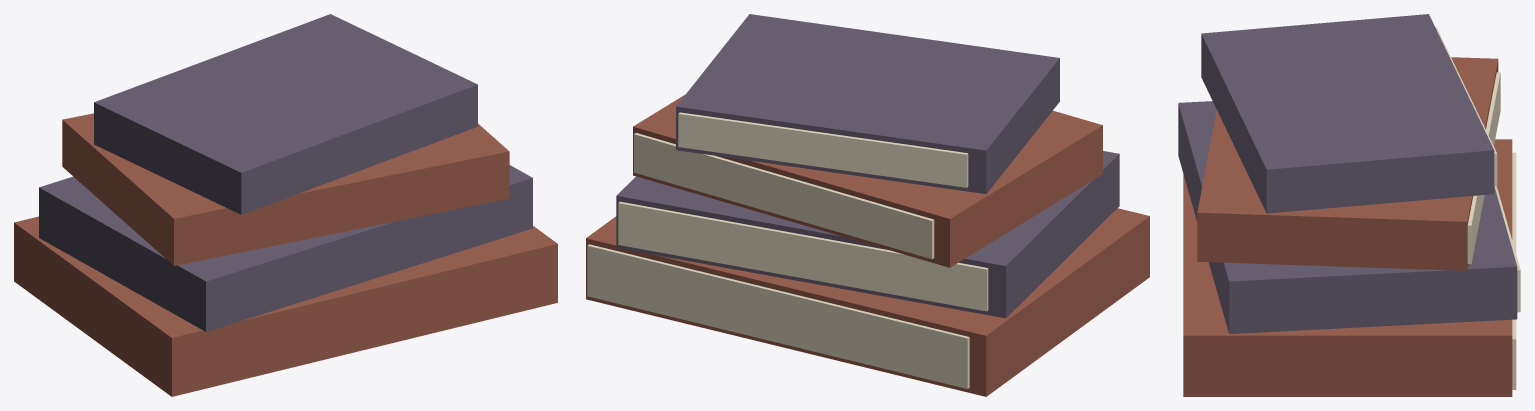
The model's file is prop-book-stack.fbx.
The picture shows the model from 3 angles, left to right: view 1: azimuth 30°, elevation 25°; view 2: azimuth 150°, elevation 25°; view 3: azimuth 270°, elevation 25°; orthographic projection. The views are drawn at different scales.
Visible parts, largest first — view 1: prop-book-stack; view 2: prop-book-stack; view 3: prop-book-stack.
Boxes of the visible parts, x1,y1,x2,y2 form: prop-book-stack: [14, 14, 557, 396]; prop-book-stack: [586, 14, 1149, 396]; prop-book-stack: [1178, 14, 1520, 396].
Size of the model in its own units: 24 by 11.8 by 17.7.
